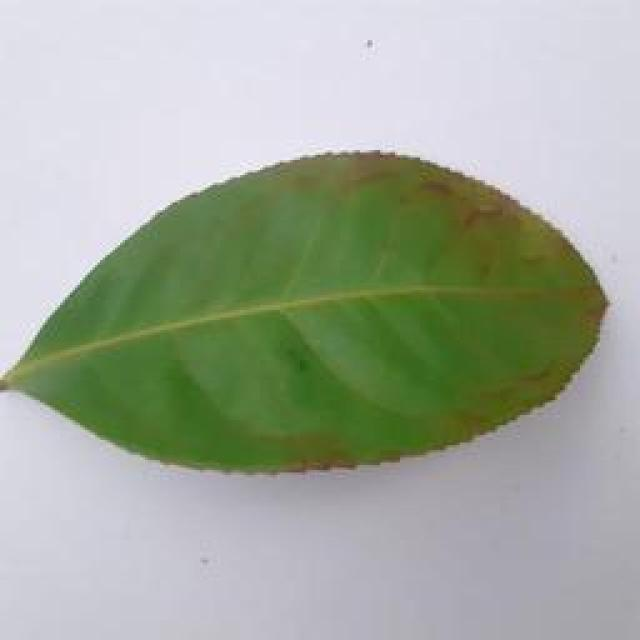Red Leaf Spot: (6, 128, 640, 468)
